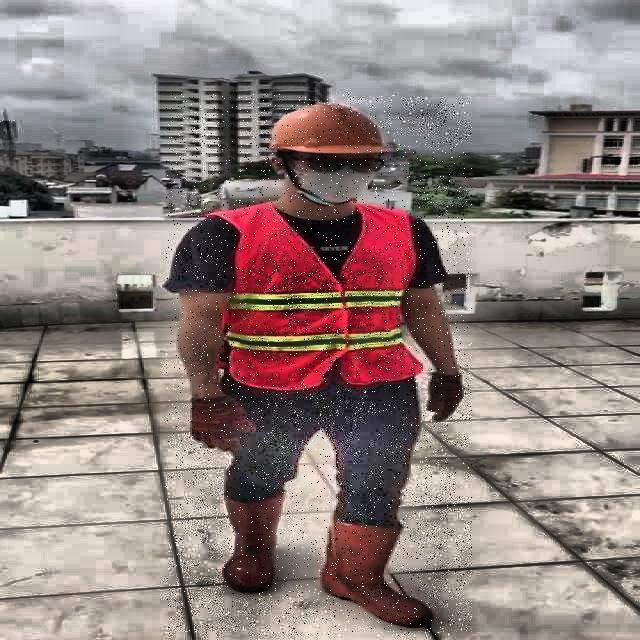safety_helmet: (260, 100, 398, 156)
safety_jacket: (225, 208, 420, 386)
